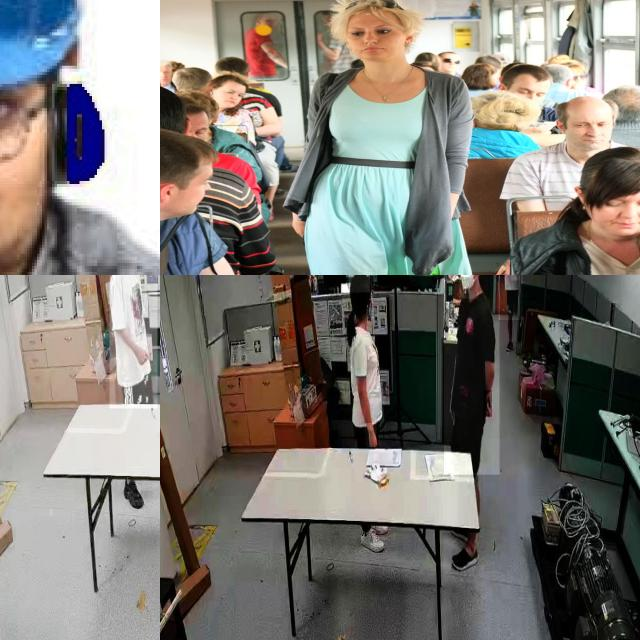Ear-protection: (0, 64, 160, 208)
face_mask: (459, 275, 479, 299)
hand_noglove: (135, 344, 149, 366), (365, 423, 377, 448), (483, 390, 492, 418)
head_helmet: (0, 0, 160, 275), (0, 0, 99, 96)
head_nohelmet: (348, 275, 370, 293)
person: (444, 275, 500, 475), (342, 286, 387, 446), (109, 275, 158, 409), (498, 275, 523, 321)
shoes: (450, 540, 480, 577), (358, 527, 387, 555), (124, 479, 145, 512)
